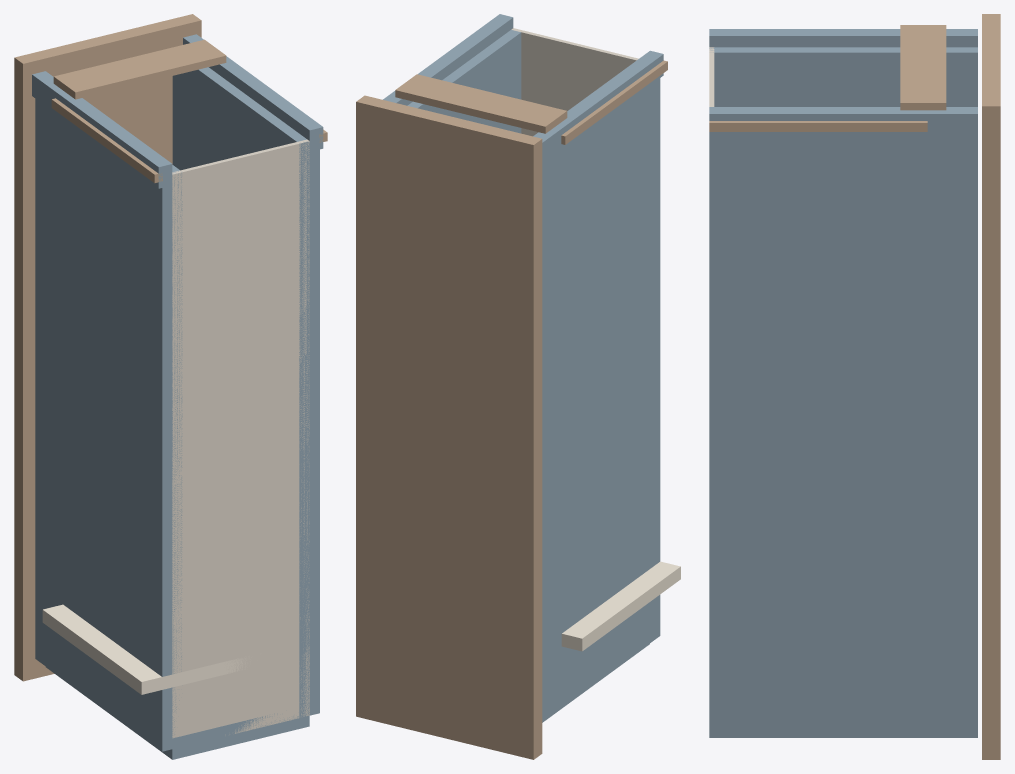
File: building_gate.glb
3 renders of one model, left to right at view 1: azimuth 30°, elevation 25°; view 2: azimuth 150°, elevation 25°; view 3: azimuth 270°, elevation 25°, orthographic. The views are drawn at different scales.
Visible parts, largest first — view 1: building_gate_w, building_gate_floor, building_gate_roof, building_gate_e, building_gate_clinic, building_gate_sign, building_gate_s_l, building_gate_n, building_gate_s_r, building_gate_jamb_l; view 2: building_gate_roof, building_gate_w, building_gate_floor, building_gate_sign, building_gate_e, building_gate_clinic, building_gate_s_l, building_gate_s_r, building_gate_jamb_l; view 3: building_gate_e, building_gate_roof, building_gate_w, building_gate_s_r, building_gate_s_l, building_gate_sign, building_gate_jamb_r, building_gate_n.
Part boxes in pixels (x1,y1,x2,y2): building_gate_w: [35, 98, 182, 751]; building_gate_floor: [172, 139, 309, 738]; building_gate_roof: [14, 14, 201, 681]; building_gate_e: [172, 67, 319, 717]; building_gate_clinic: [42, 604, 251, 694]; building_gate_sign: [53, 39, 226, 99]; building_gate_s_l: [32, 71, 172, 188]; building_gate_n: [46, 667, 309, 759]; building_gate_s_r: [183, 34, 323, 151]; building_gate_jamb_l: [51, 98, 162, 183]; building_gate_roof: [356, 95, 542, 759]; building_gate_w: [542, 78, 660, 721]; building_gate_floor: [511, 28, 638, 136]; building_gate_sign: [395, 74, 567, 133]; building_gate_e: [407, 30, 521, 133]; building_gate_clinic: [561, 561, 680, 651]; building_gate_s_l: [533, 50, 663, 163]; building_gate_s_r: [383, 14, 513, 105]; building_gate_jamb_l: [561, 60, 667, 144]; building_gate_e: [709, 137, 977, 731]; building_gate_roof: [982, 14, 1000, 759]; building_gate_w: [709, 47, 977, 106]; building_gate_s_r: [709, 107, 977, 136]; building_gate_s_l: [709, 29, 977, 47]; building_gate_sign: [900, 25, 946, 110]; building_gate_jamb_r: [709, 121, 927, 131]; building_gate_n: [709, 732, 977, 737].
Bounding box in the file's own units: 2.75 × 8.6 × 3.47.
